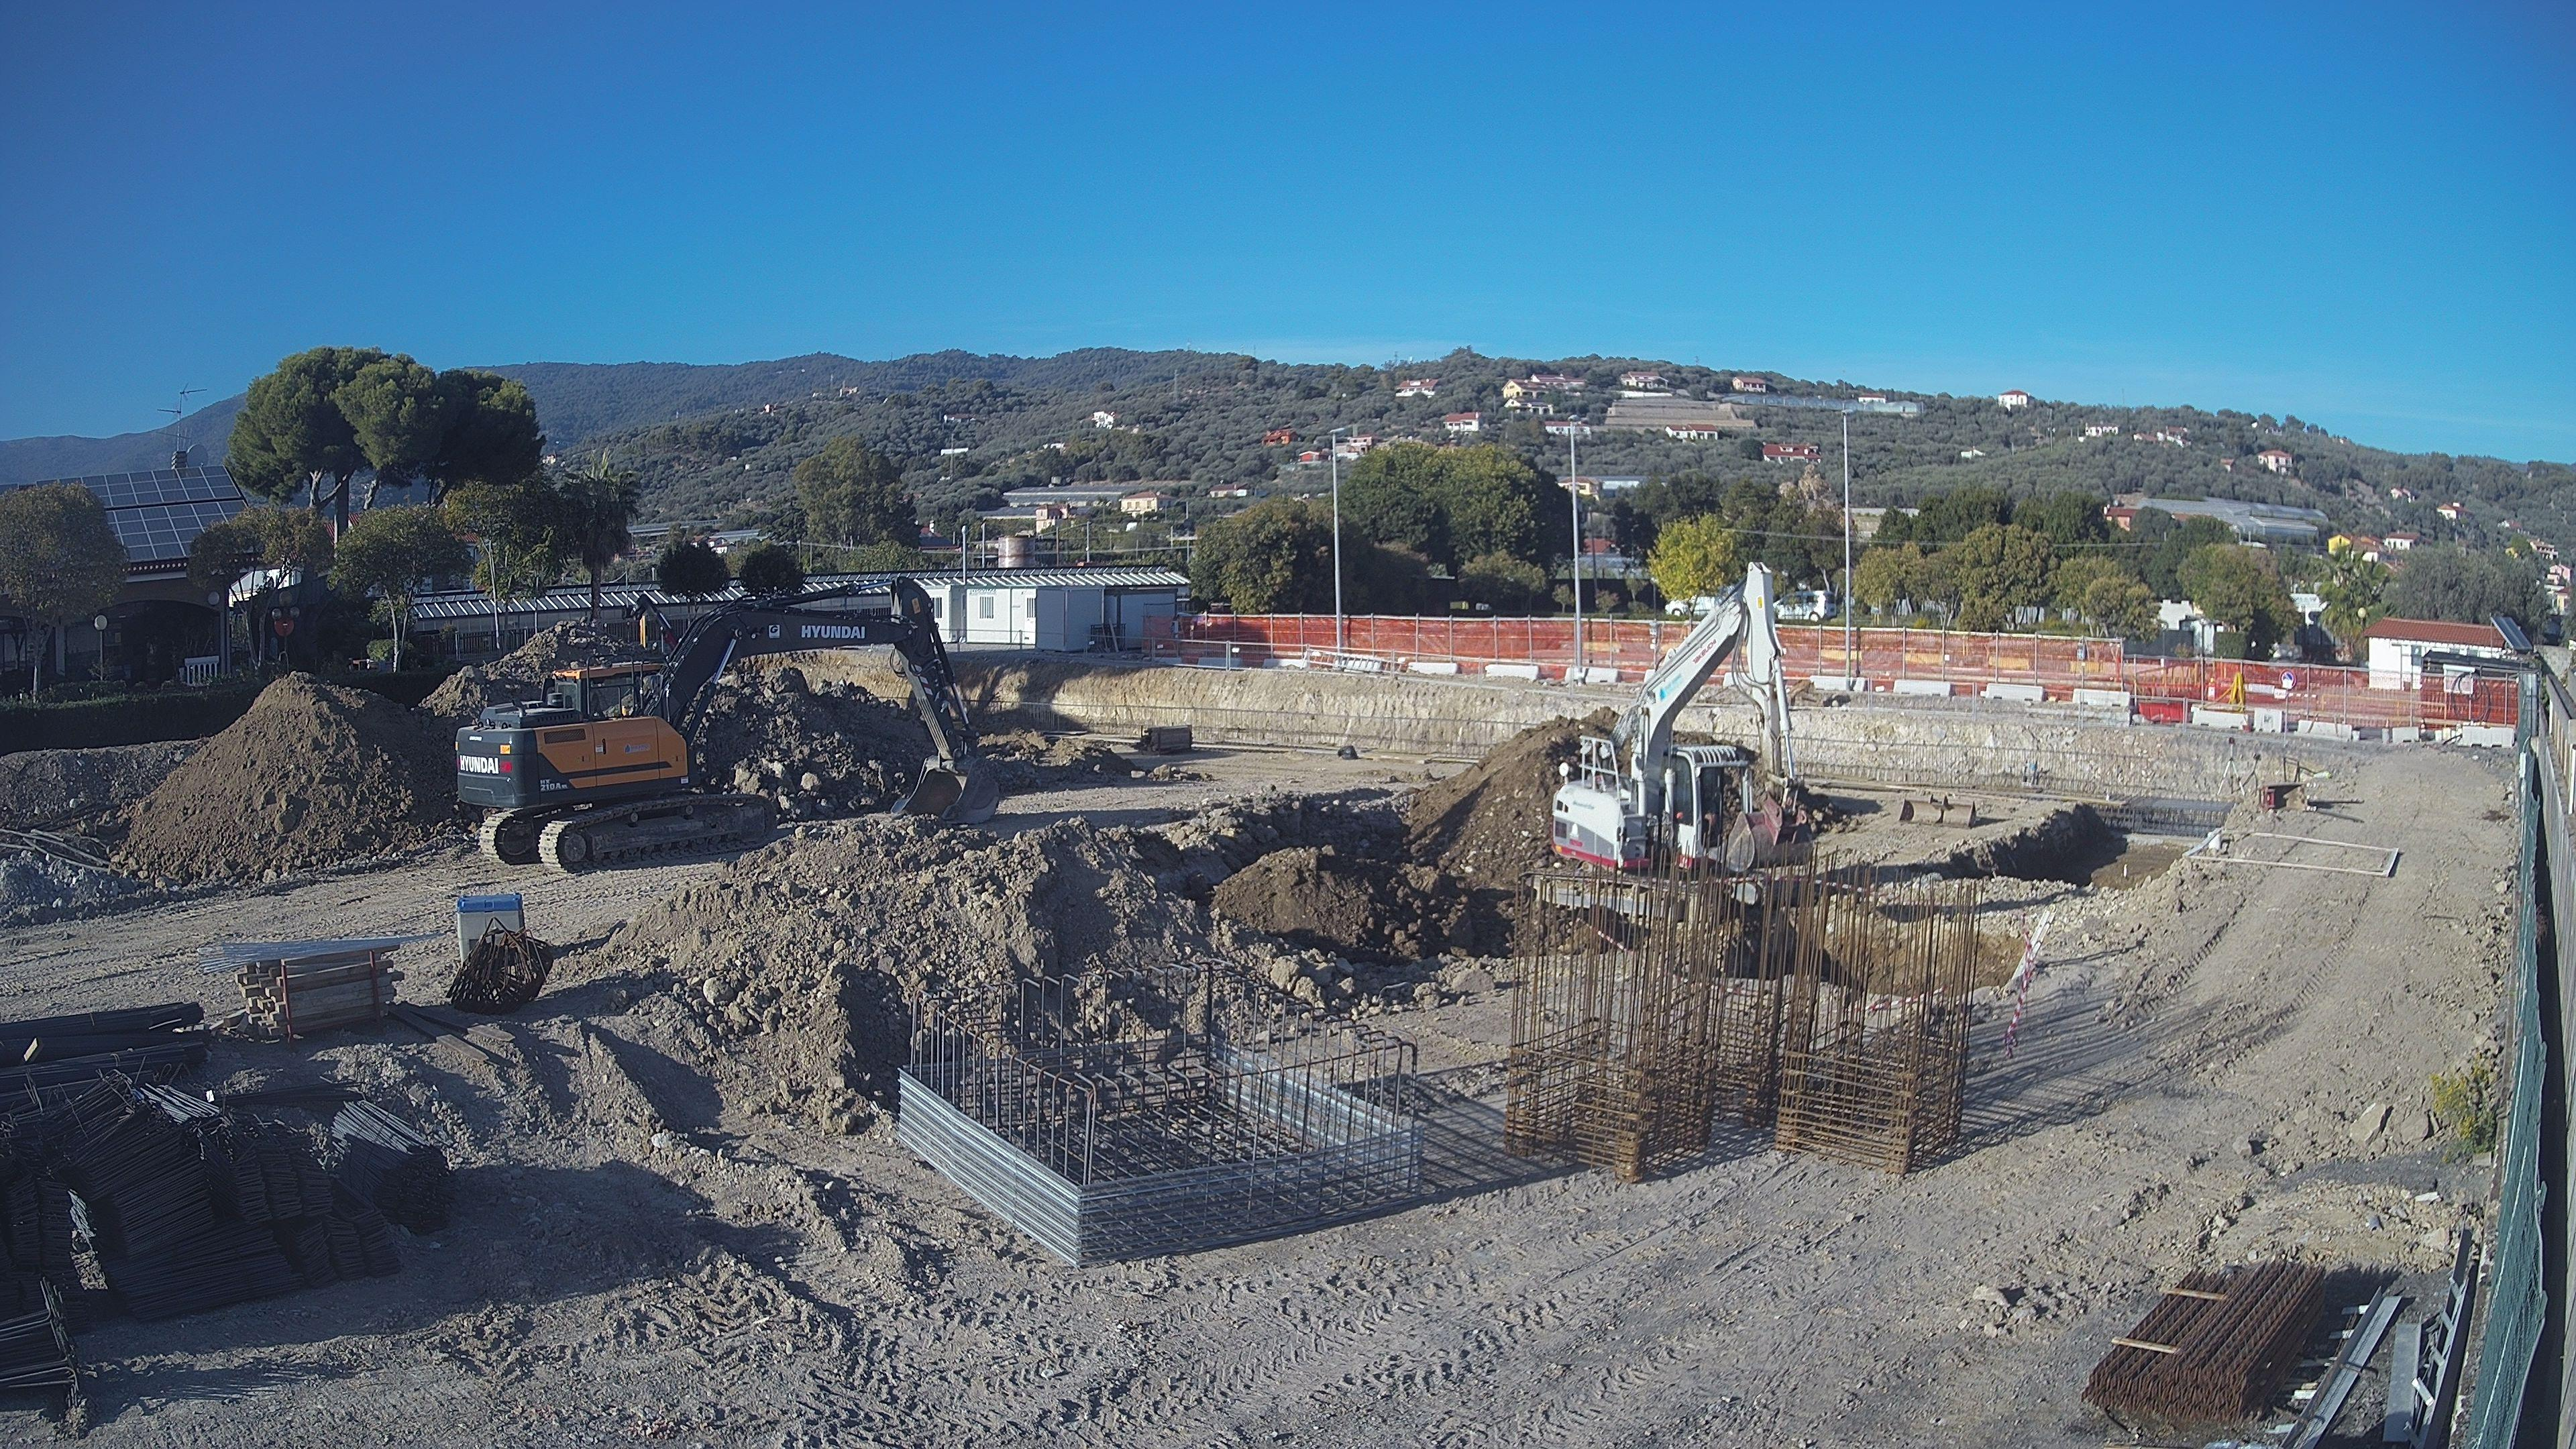Cars: (1665, 584, 1750, 621), (1773, 589, 1838, 625)
excavator: (453, 575, 1005, 872), (1511, 561, 1815, 934)
